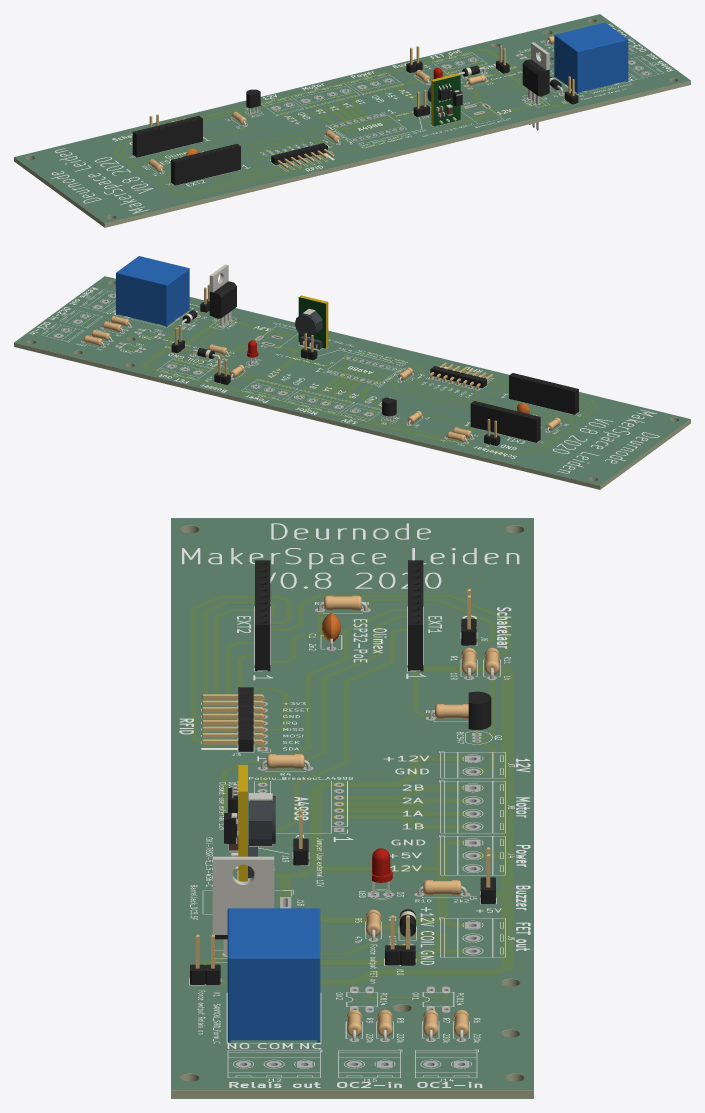
File: board.glb
The picture shows the model from 3 angles, top to bottom: view 1: azimuth 30°, elevation 25°; view 2: azimuth 150°, elevation 25°; view 3: azimuth 270°, elevation 25°; orthographic projection. The views are drawn at different scales.
Visible parts, largest first — view 1: board_soldermask, board_PCB, board_silkscreen, Relay_SPDT_SANYOU_SRD_Series_Form_C, PinSocket_1x10_P2.54mm_Vertical (×2), board_copper, Converter_DCDC_muRata_OKI-78SR_vertical, TO-220-3_Vertical, board_pad, PinHeader_1x08_P254mm_Horizontal; view 2: board_soldermask, board_PCB, board_silkscreen, Relay_SPDT_SANYOU_SRD_Series_Form_C, PinSocket_1x10_P2.54mm_Vertical (×2), board_copper, Converter_DCDC_muRata_OKI-78SR_vertical, board_pad, TO-220-3_Vertical, PinHeader_1x08_P254mm_Horizontal; view 3: board_soldermask, board_PCB, board_copper, board_silkscreen, Relay_SPDT_SANYOU_SRD_Series_Form_C, TO-220-3_Vertical, board_pad, Converter_DCDC_muRata_OKI-78SR_vertical, PinSocket_1x10_P2.54mm_Vertical (×2), PinHeader_1x08_P254mm_Horizontal, PinHeader_1x02_P254mm_Vertical (×2), TO-92_Inline_Narrow.
Boxes of the visible parts, x1,y1,x2,y2 form: board_soldermask: [14, 14, 690, 223]; board_PCB: [14, 15, 690, 227]; board_silkscreen: [51, 24, 673, 213]; Relay_SPDT_SANYOU_SRD_Series_Form_C: [554, 22, 628, 93]; PinSocket_1x10_P2.54mm_Vertical (×2): [132, 115, 240, 185]; board_copper: [114, 49, 570, 196]; Converter_DCDC_muRata_OKI-78SR_vertical: [427, 73, 462, 126]; TO-220-3_Vertical: [522, 42, 549, 130]; board_pad: [148, 44, 649, 174]; PinHeader_1x08_P254mm_Horizontal: [271, 143, 334, 168]; board_soldermask: [14, 276, 690, 485]; board_PCB: [14, 277, 690, 489]; board_silkscreen: [29, 287, 659, 473]; Relay_SPDT_SANYOU_SRD_Series_Form_C: [116, 256, 189, 327]; PinSocket_1x10_P2.54mm_Vertical (×2): [470, 373, 578, 442]; board_copper: [130, 312, 597, 455]; Converter_DCDC_muRata_OKI-78SR_vertical: [295, 295, 328, 349]; board_pad: [54, 294, 561, 443]; TO-220-3_Vertical: [209, 264, 236, 326]; PinHeader_1x08_P254mm_Horizontal: [430, 362, 493, 389]; board_soldermask: [171, 518, 533, 1089]; board_PCB: [171, 519, 533, 1098]; board_copper: [191, 595, 512, 998]; board_silkscreen: [179, 523, 530, 1087]; Relay_SPDT_SANYOU_SRD_Series_Form_C: [227, 908, 320, 1042]; TO-220-3_Vertical: [212, 856, 274, 955]; board_pad: [222, 608, 496, 1067]; Converter_DCDC_muRata_OKI-78SR_vertical: [224, 765, 275, 881]; PinSocket_1x10_P2.54mm_Vertical (×2): [255, 560, 423, 671]; PinHeader_1x08_P254mm_Horizontal: [202, 687, 264, 751]; PinHeader_1x02_P254mm_Vertical (×2): [190, 915, 415, 984]; TO-92_Inline_Narrow: [468, 691, 491, 741].
Bounding box in the file's own units: 0.2248 × 0.0285 × 0.0603.
